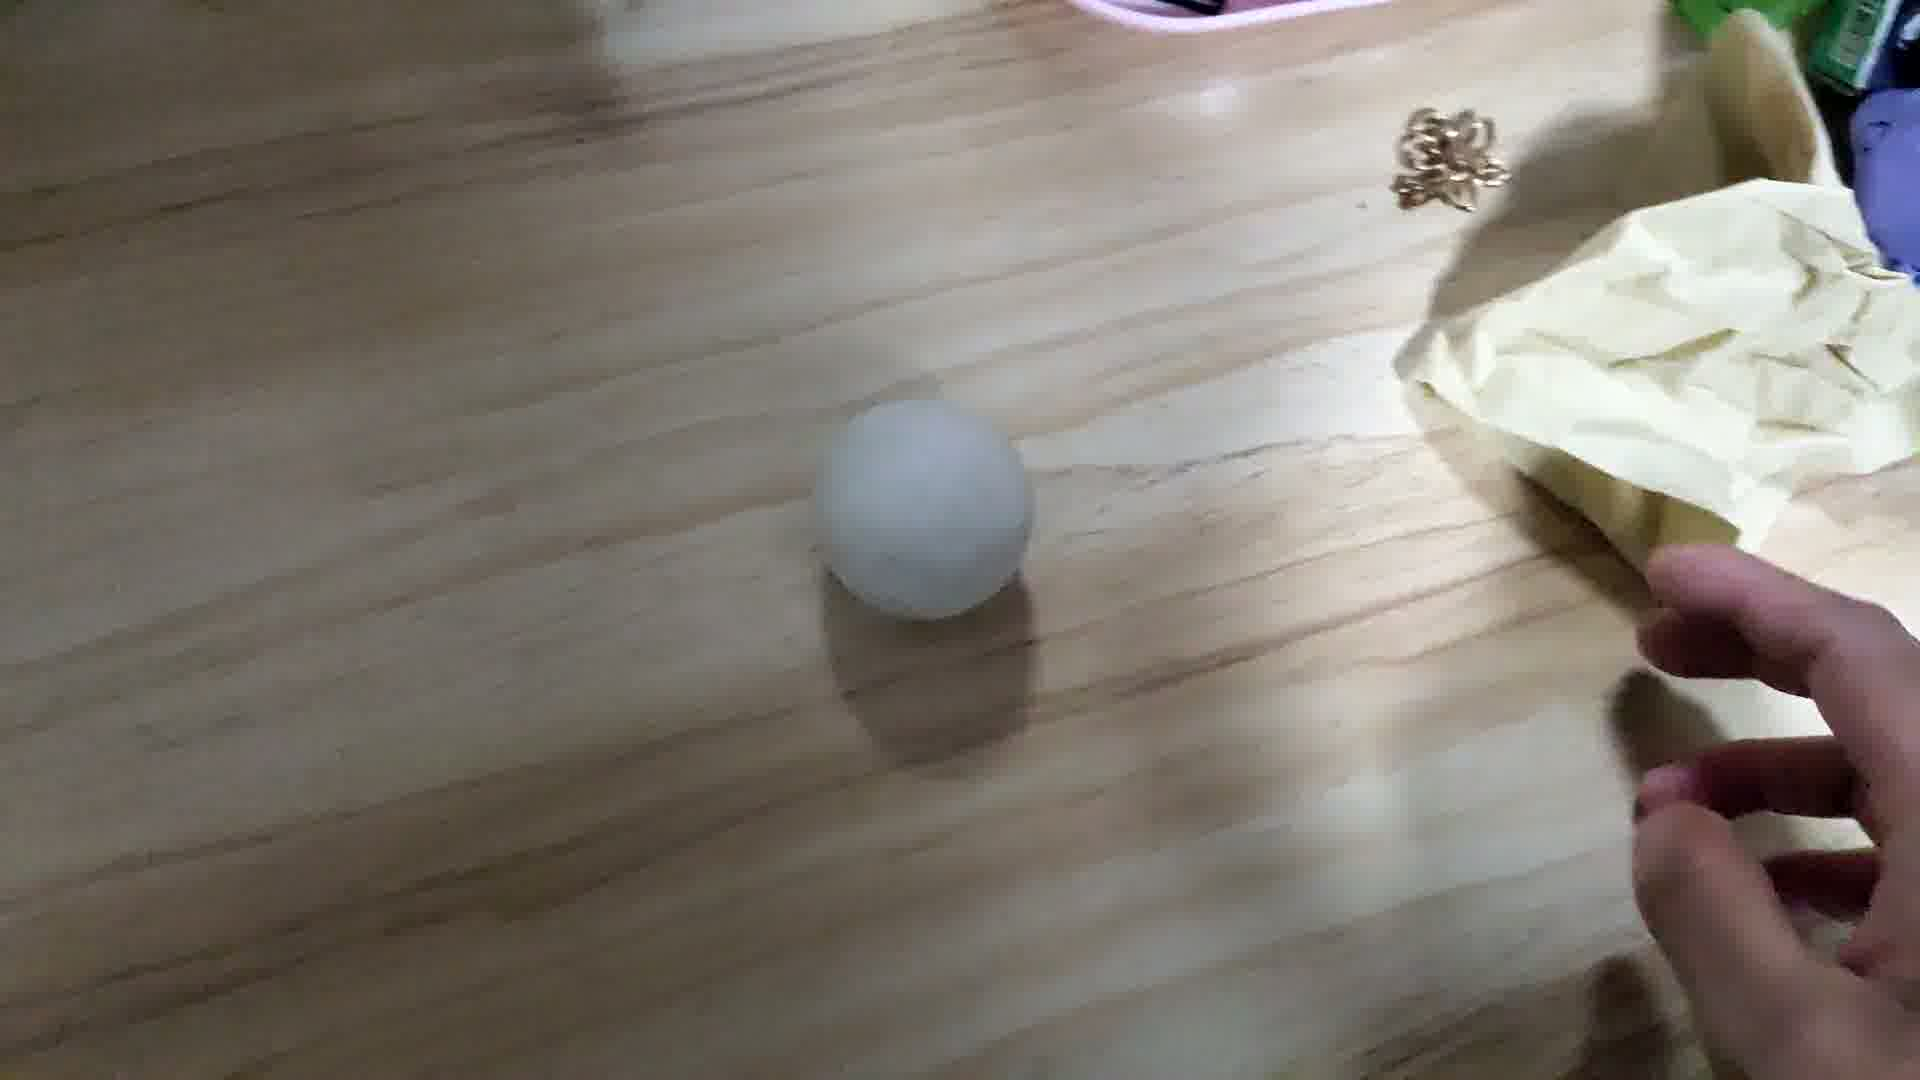Ball: (808, 400, 1035, 624)
